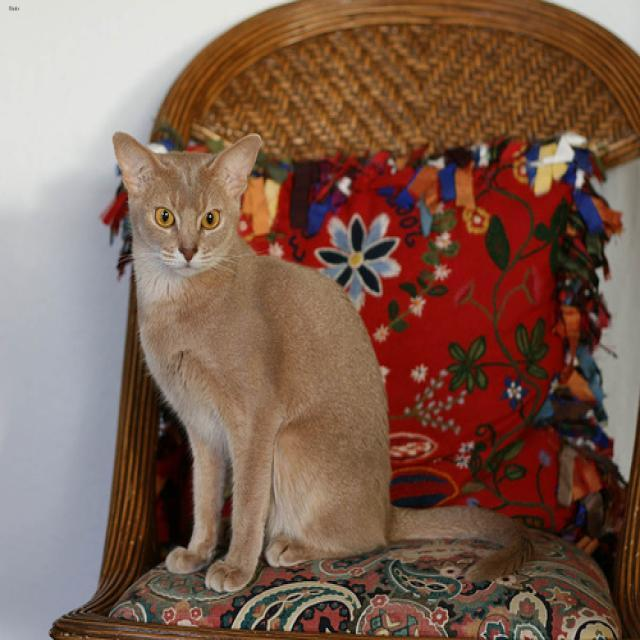Abyssinian: (111, 130, 260, 274)
